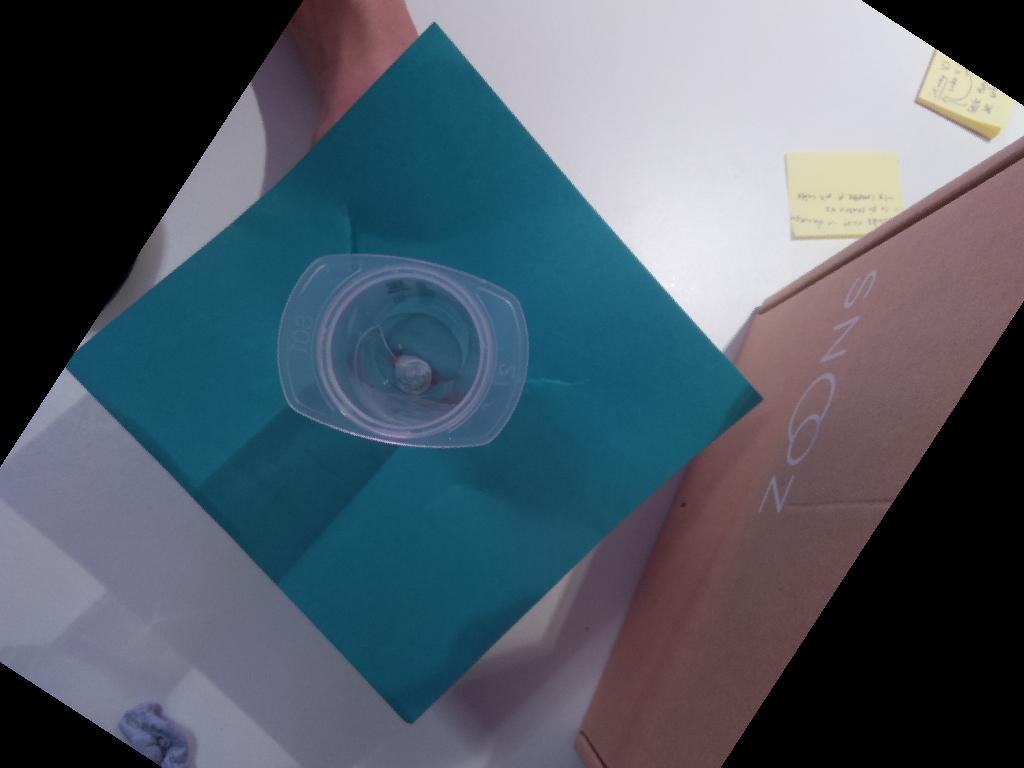clean: (276, 253, 531, 449)
